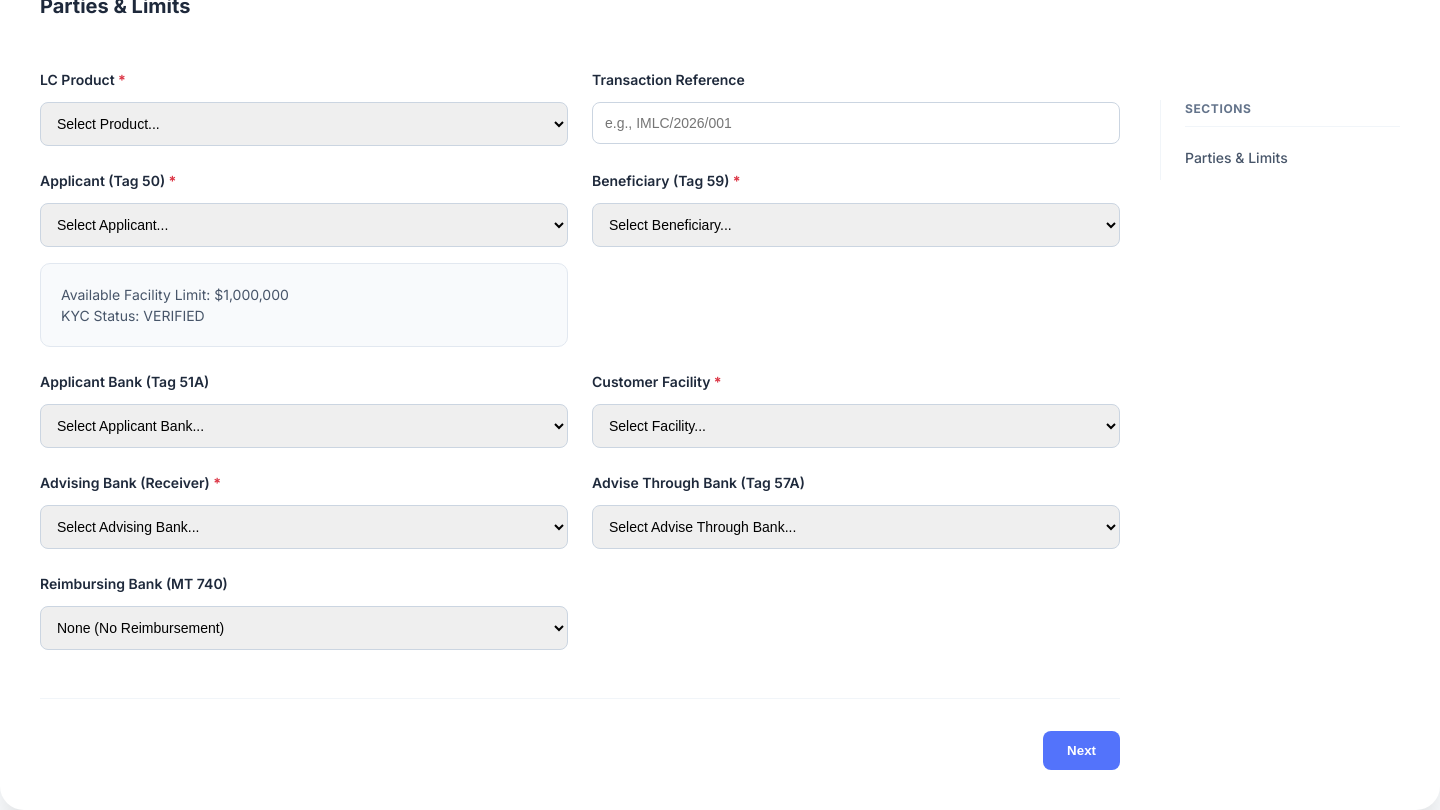
IssuanceStepper v3.0 (BDD-IMP-FLOW-01, BDD-CMN-VAL-05) › validates mandatory fields in Step 1 before moving to Step 2
(page scrolled)
Click the button with test id "next-button".
click(1082, 751)  # box [1043,731,1120,770]
(page scrolled)
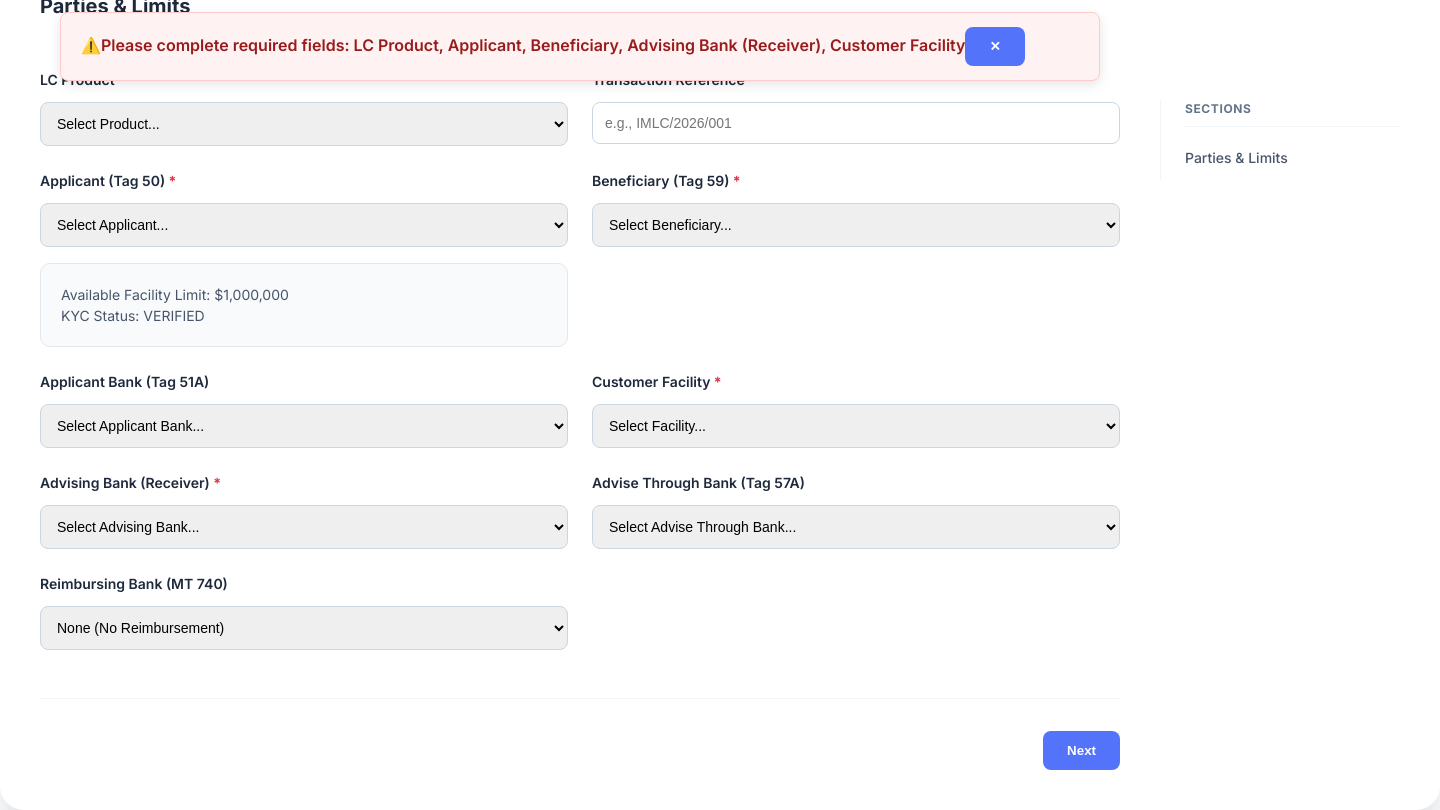
Check: the element with class "error-banner" is shown, box [60,12,1100,81]
Check: the element with class "error-banner" shows "LC Product", box [101,35,966,55]
Check: the element with class "error-banner" shows "Applicant", box [101,35,966,55]
